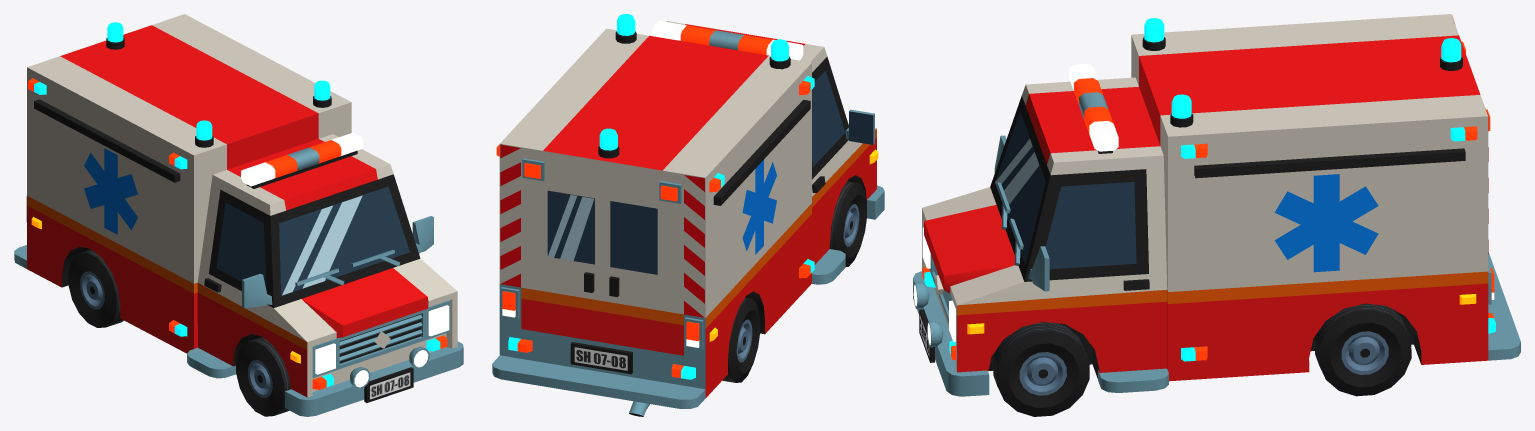
File: ambulance.glb
3 renders of one model, left to right at view 1: azimuth 30°, elevation 25°; view 2: azimuth 150°, elevation 25°; view 3: azimuth 270°, elevation 25°, orthographic. The views are drawn at different scales.
Visible parts, largest first — view 1: Ambulance_1, BaseM_1, BaseM_3; view 2: Ambulance_1, BaseM_1, BaseM_3; view 3: Ambulance_1, BaseM, BaseM_2.
Part boxes in pixels (box(x1,y1,x2,y2)): Ambulance_1: box(14, 14, 463, 416); BaseM_1: box(236, 337, 290, 416); BaseM_3: box(68, 249, 123, 327); Ambulance_1: box(492, 14, 884, 416); BaseM_1: box(829, 181, 866, 266); BaseM_3: box(722, 297, 759, 382); Ambulance_1: box(913, 14, 1520, 396); BaseM: box(993, 321, 1089, 416); BaseM_2: box(1315, 303, 1411, 396).
Bounding box in the file's own units: 2.8 × 2.71 × 5.
Materials: 2 (2 with a texture image).
